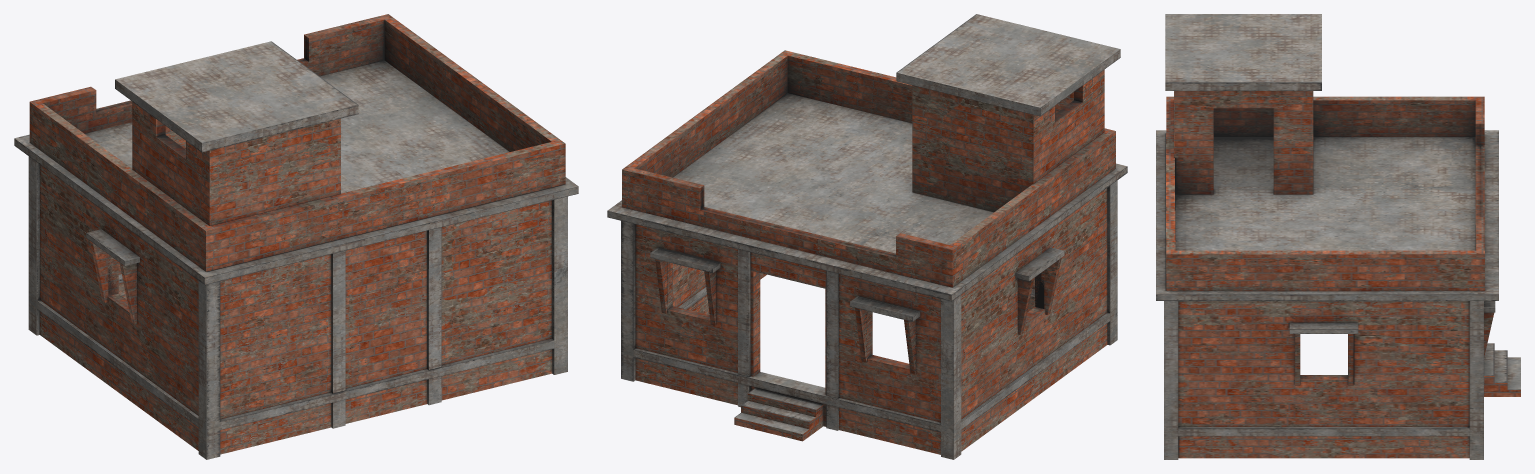
The model's file is house under construction.glb.
The picture shows the model from 3 angles, left to right: view 1: azimuth 30°, elevation 25°; view 2: azimuth 150°, elevation 25°; view 3: azimuth 270°, elevation 25°; orthographic projection. The views are drawn at different scales.
Parts seen in each view (by area): view 1: Cube; view 2: Cube; view 3: Cube.
Boxes of the visible parts, x1=… form: Cube: x1=14, y1=14, x2=578, y2=459; Cube: x1=607, y1=14, x2=1127, y2=459; Cube: x1=1156, y1=14, x2=1520, y2=459.
Bounding box in the file's own units: 6.12 × 4.81 × 5.57.
Materials: 1 (1 with a texture image).
